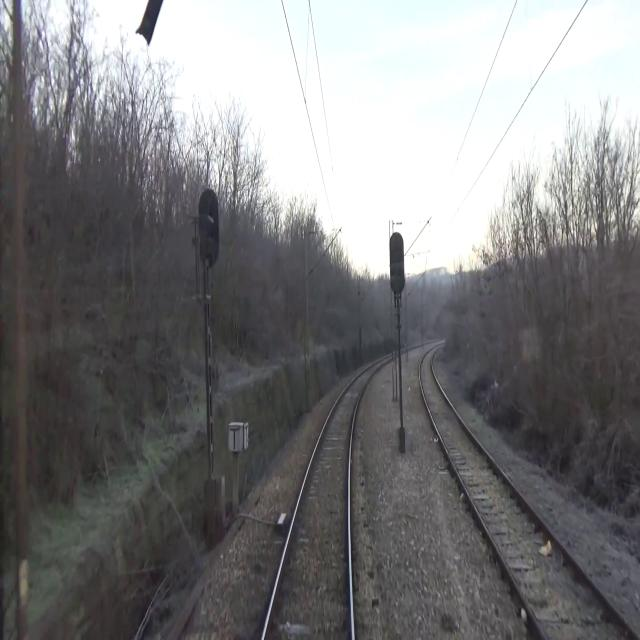rail-track: (421, 351, 634, 639), (265, 368, 372, 639)
